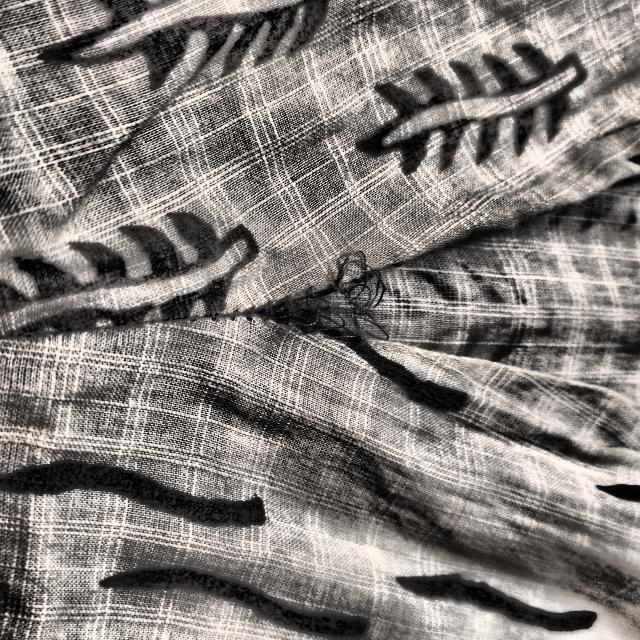gray stitch: (254, 247, 409, 358)
